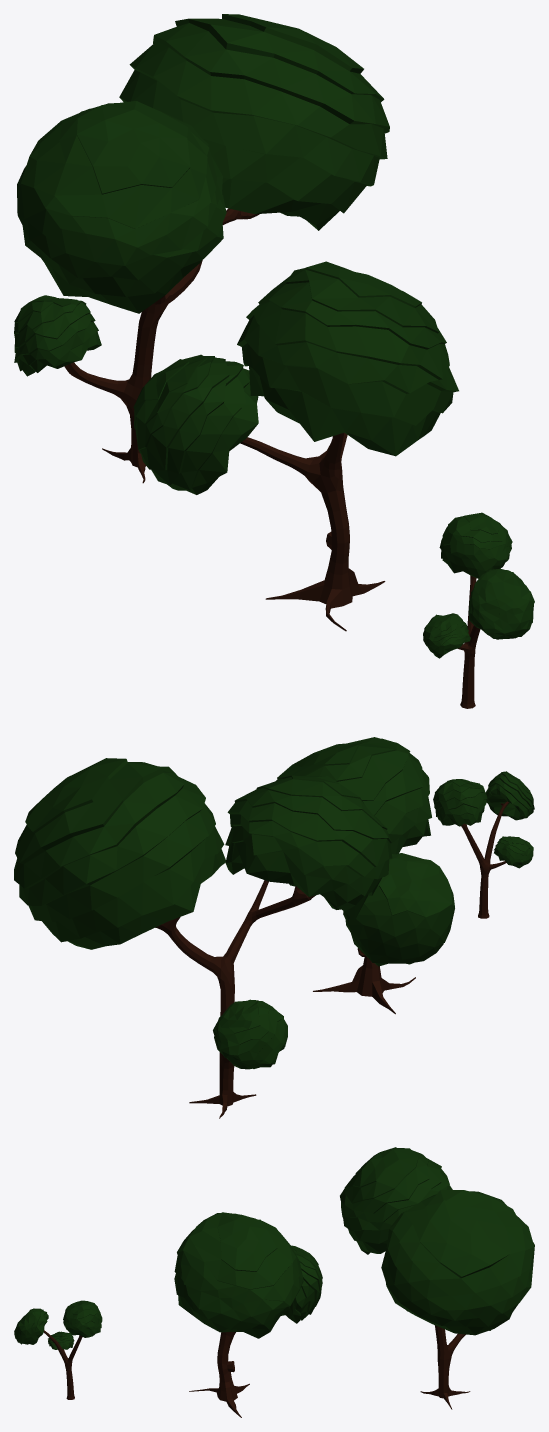
Rendered from LP B TREES ST1.obj.
3 renders of one model, top to bottom at view 1: azimuth 30°, elevation 25°; view 2: azimuth 150°, elevation 25°; view 3: azimuth 270°, elevation 25°, orthographic. The views are drawn at different scales.
Visible parts, largest first — view 1: Leaves_1.001_Icosphere.002, TreeTrunkM_Cube.001, TreeTrunkS_Cube.003; view 2: Leaves_1.001_Icosphere.002, TreeTrunkM_Cube.001, TreeTrunkS_Cube.003; view 3: Leaves_1.001_Icosphere.002, TreeTrunkM_Cube.001, TreeTrunkS_Cube.003.
Boxes of the visible parts, box(x1,y1,x2,y2) form: Leaves_1.001_Icosphere.002: box(14, 14, 389, 483); TreeTrunkM_Cube.001: box(133, 261, 458, 631); TreeTrunkS_Cube.003: box(423, 512, 534, 708); Leaves_1.001_Icosphere.002: box(14, 758, 392, 1118); TreeTrunkM_Cube.001: box(276, 737, 454, 1014); TreeTrunkS_Cube.003: box(433, 771, 534, 918); Leaves_1.001_Icosphere.002: box(340, 1147, 534, 1409); TreeTrunkM_Cube.001: box(174, 1212, 322, 1417); TreeTrunkS_Cube.003: box(14, 1300, 102, 1399).
Bounding box in the file's own units: 11.9 × 11.85 × 23.89.
